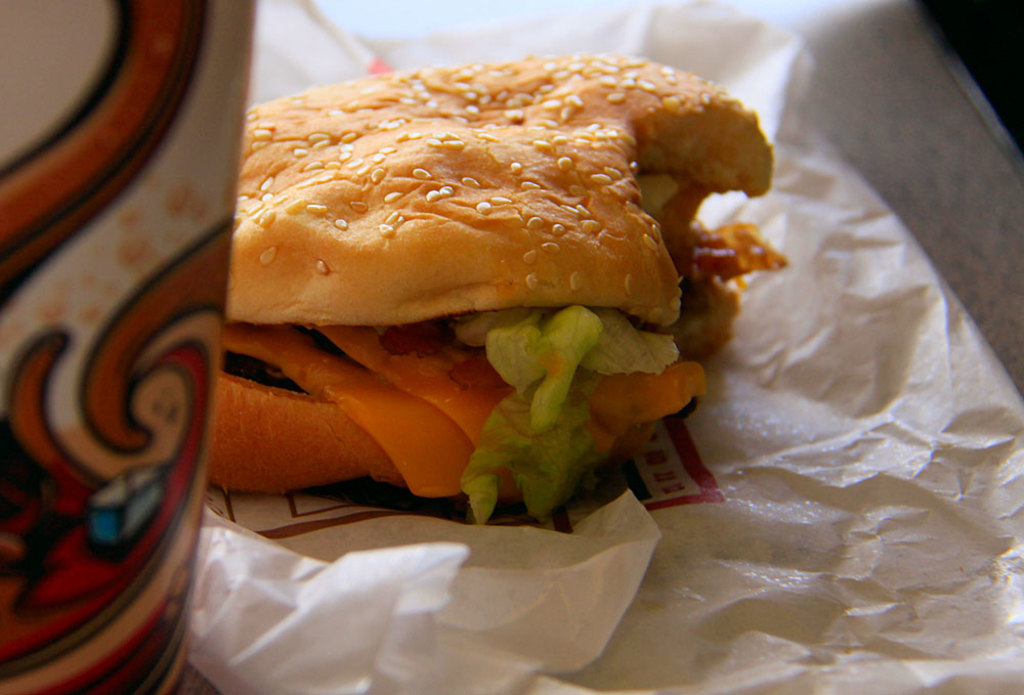Hamburger: (206, 55, 792, 528)
